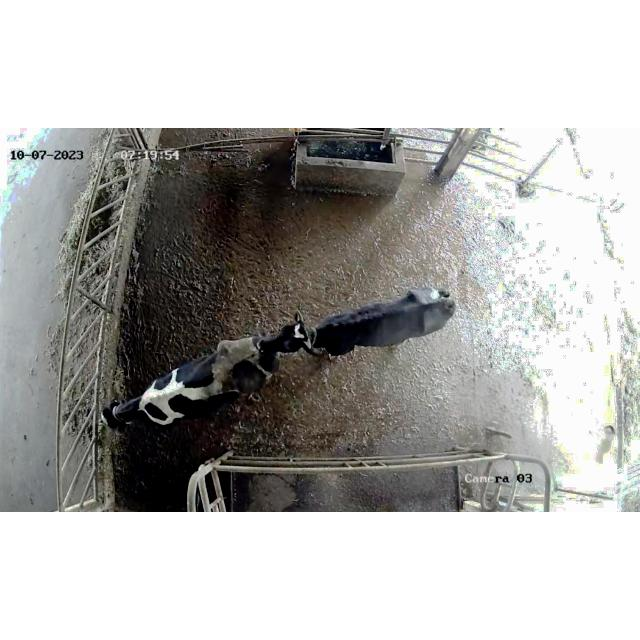propping: (221, 314, 355, 382)
